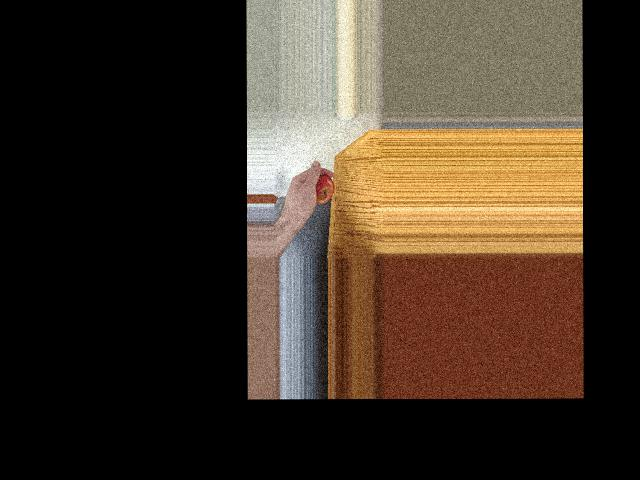apple: (309, 172, 335, 204)
